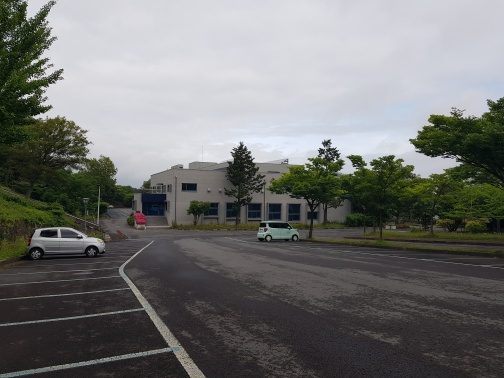College of Social Sciences: (128, 159, 356, 232)
